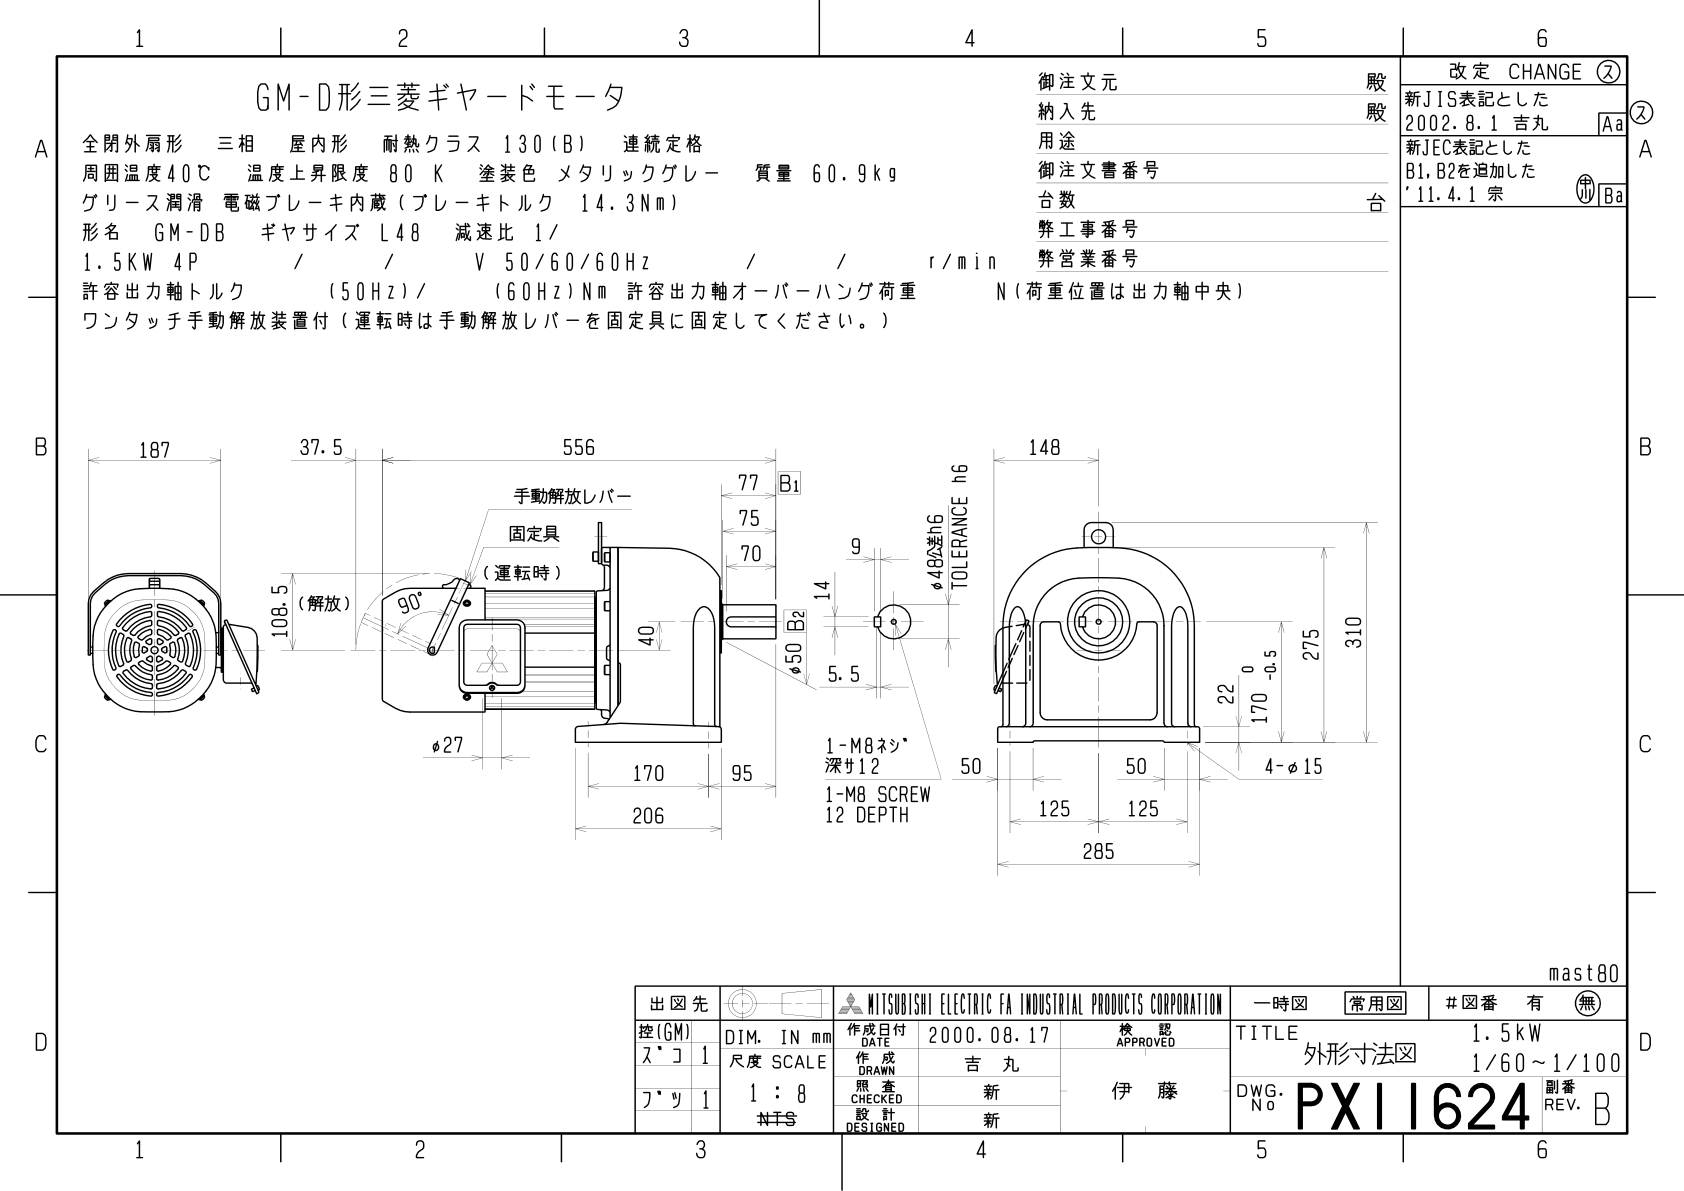GM_D_手動解放ブレーキ＿三相_脚: (1, 1, 1671, 1178)
